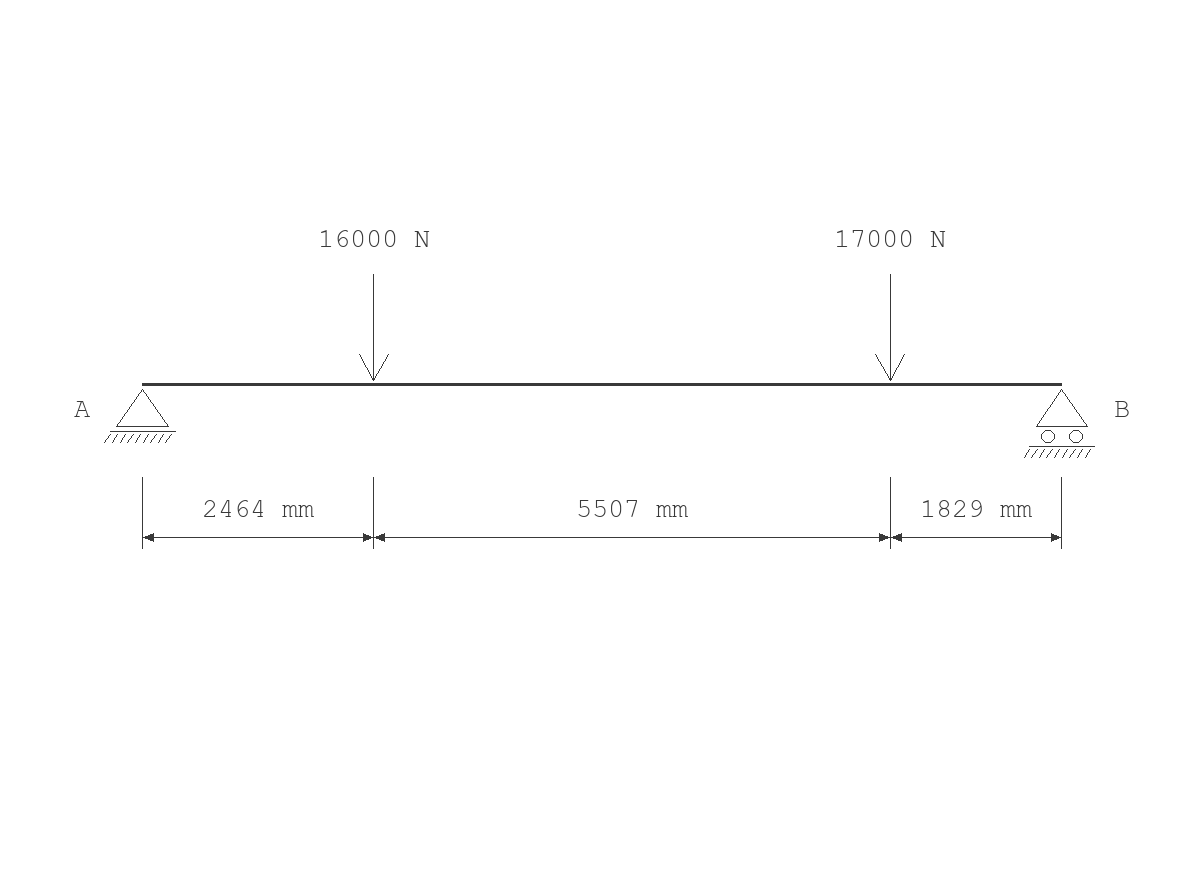pin_support: (104, 389, 176, 443)
point_load: (359, 274, 389, 381), (875, 274, 905, 381)
roller_support: (1024, 389, 1095, 458)
